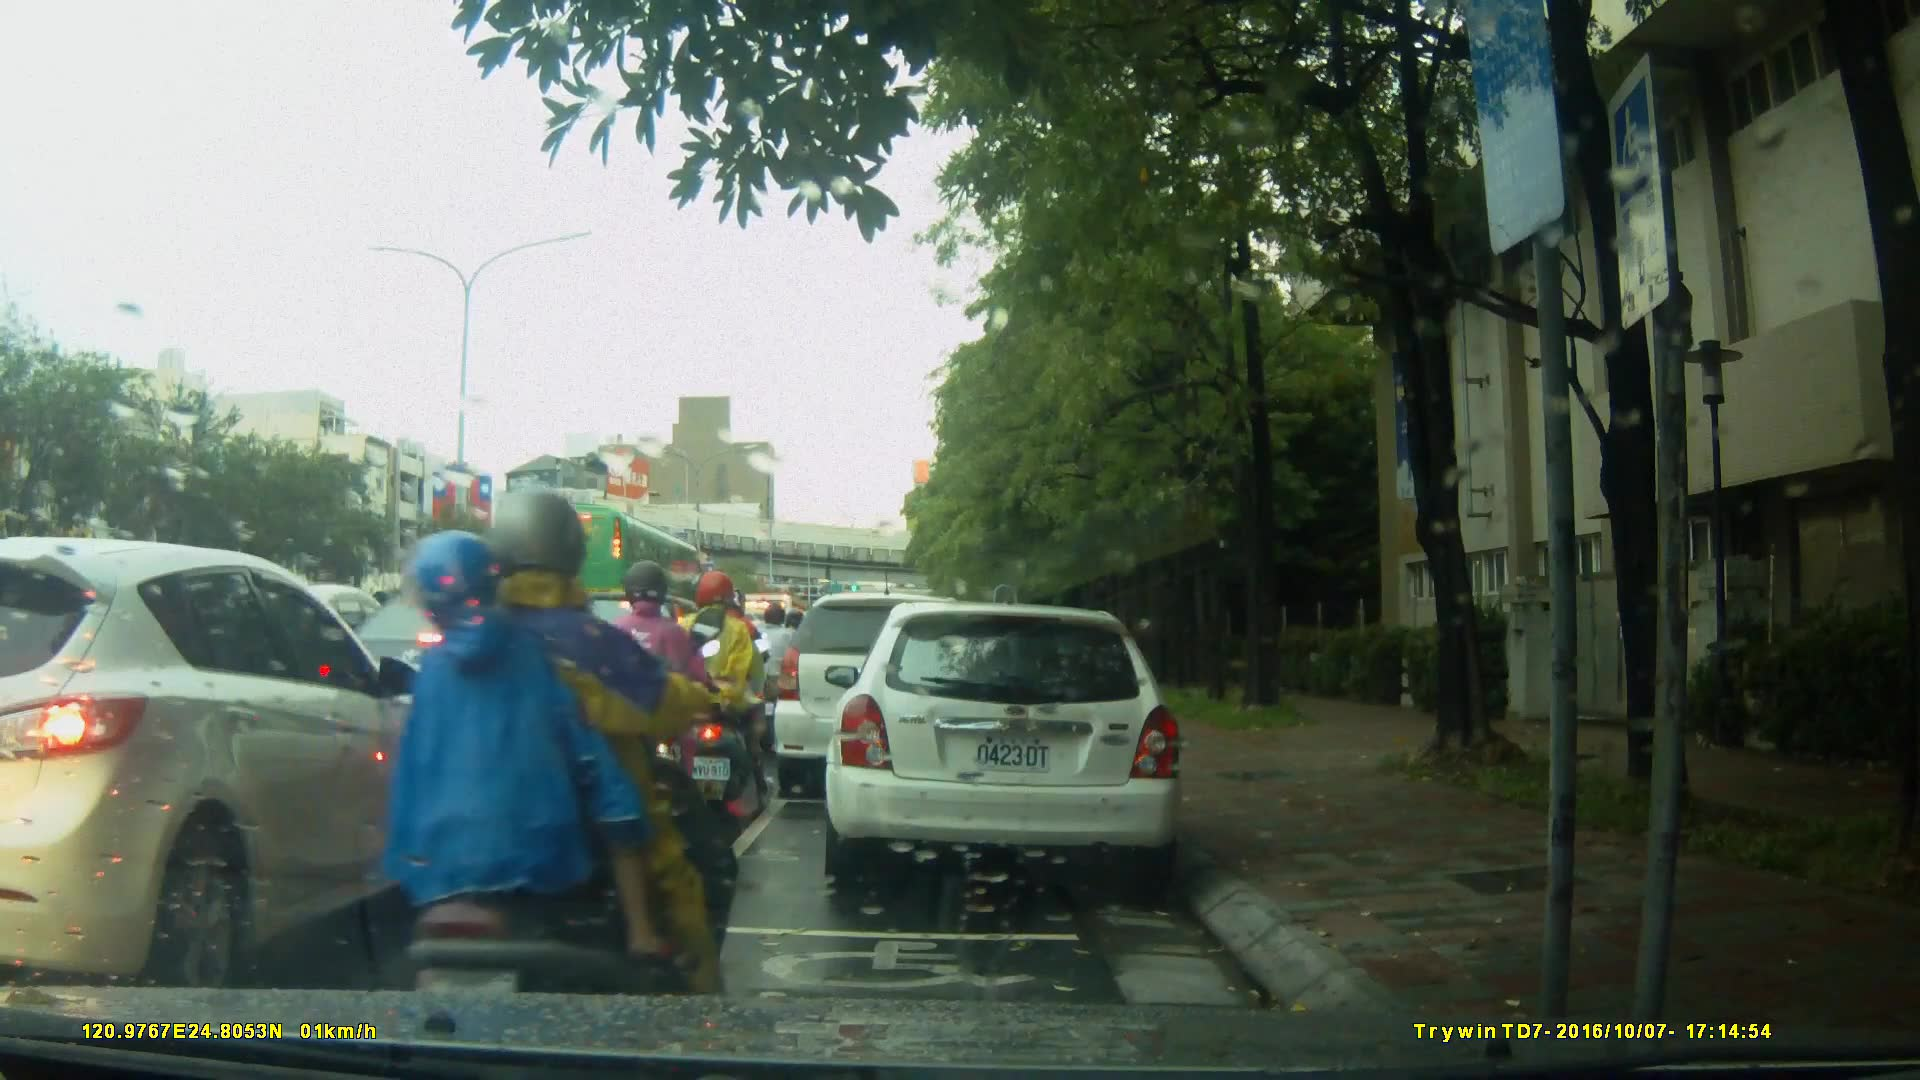rider: (400, 482, 748, 1057), (585, 566, 694, 860), (679, 567, 766, 813), (704, 592, 768, 757), (752, 598, 804, 745)
vehicle: (5, 536, 469, 988), (831, 592, 1196, 897), (315, 589, 629, 776), (770, 590, 999, 804), (498, 503, 713, 636)
